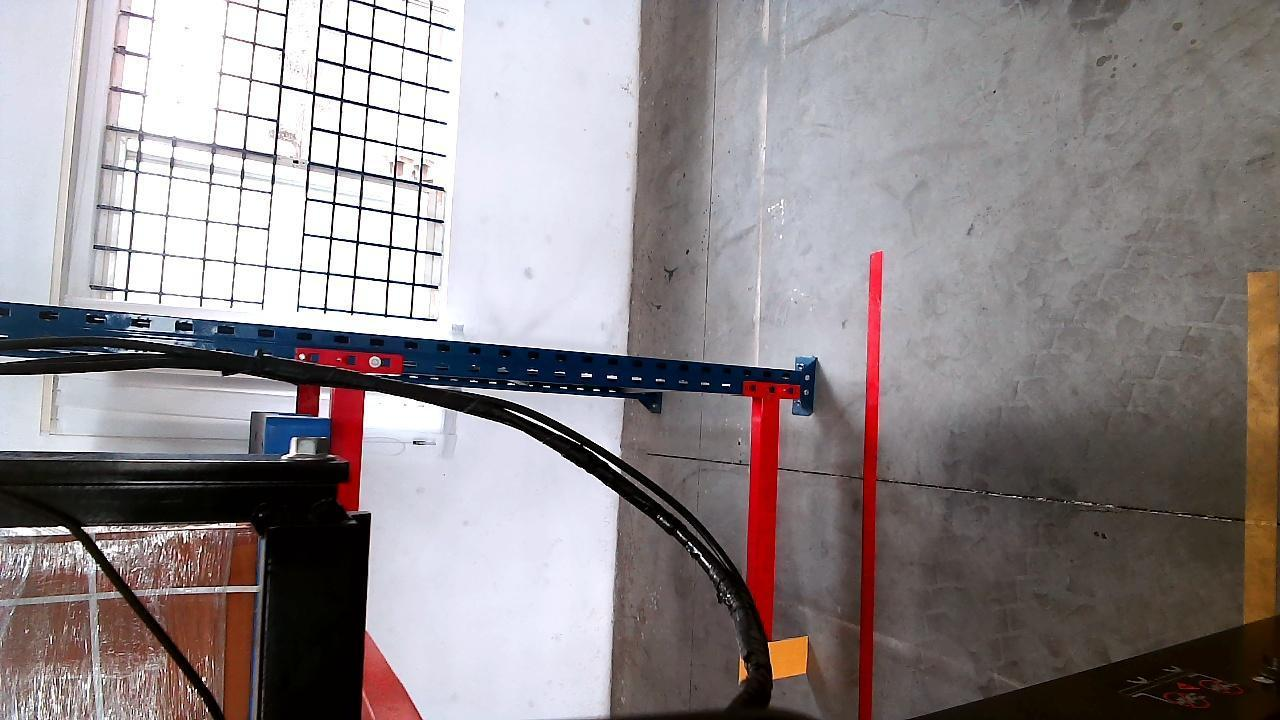h_rack: (750, 390, 777, 661)
orange_strip: (764, 636, 810, 678)
red_line: (858, 256, 882, 720)
yellow_line: (1243, 258, 1278, 630)
